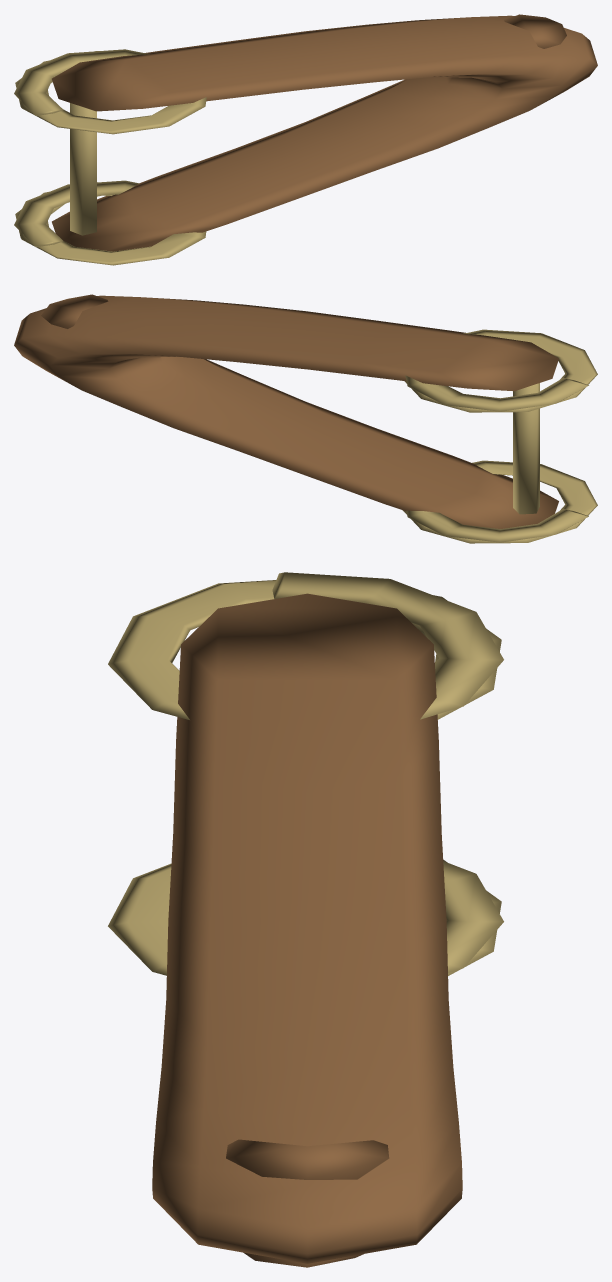
The model's file is archet.glb.
3 views of the same model, one above another, from view 1: azimuth 30°, elevation 25°; view 2: azimuth 150°, elevation 25°; view 3: azimuth 270°, elevation 25° (orthographic). The views are drawn at different scales.
Visible parts, largest first — view 1: Archet; view 2: Archet; view 3: Archet.
Boxes of the visible parts, <box> form: Archet: <box>14,14,597,265</box>; Archet: <box>14,294,597,543</box>; Archet: <box>108,572,503,1267</box>.
Bounding box in the file's own units: 4.1 × 1.01 × 1.25.
